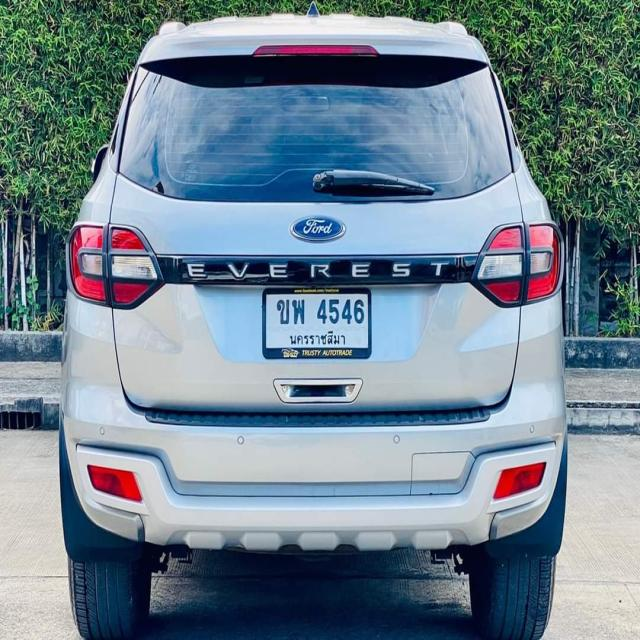license_plate: (260, 284, 374, 362)
